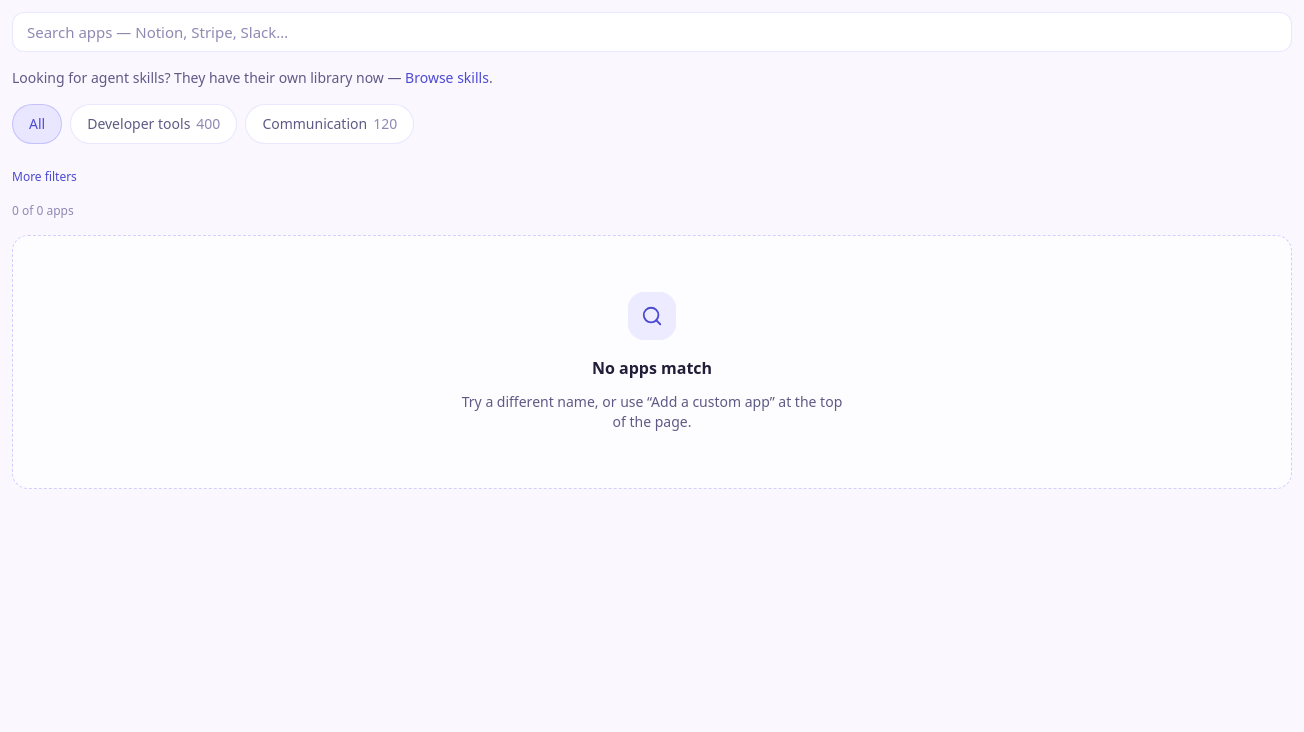
Test: AppLibrary in catalog mode › spells the advanced chips like a person would, and drops Unknown
Click the button "More filters": (44, 177) [12,169,77,185]
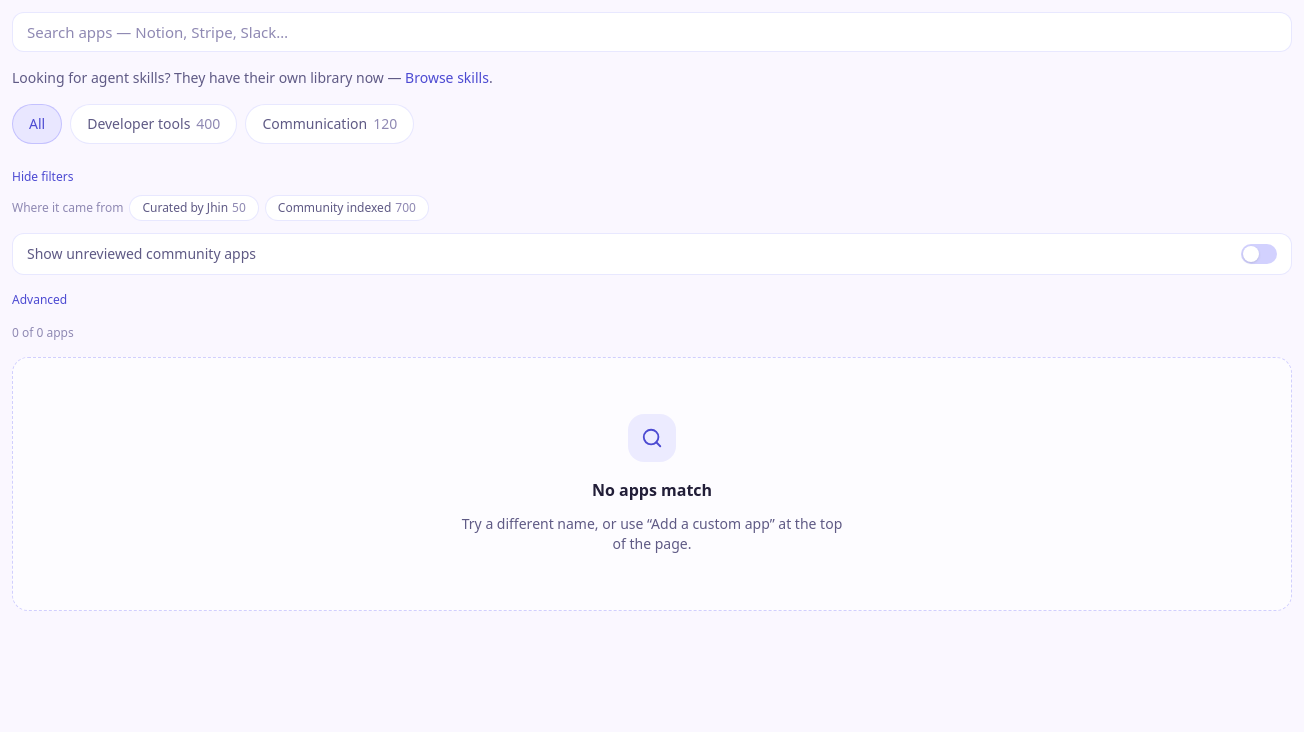
Click the button "Advanced": (40, 300) [12,292,67,308]
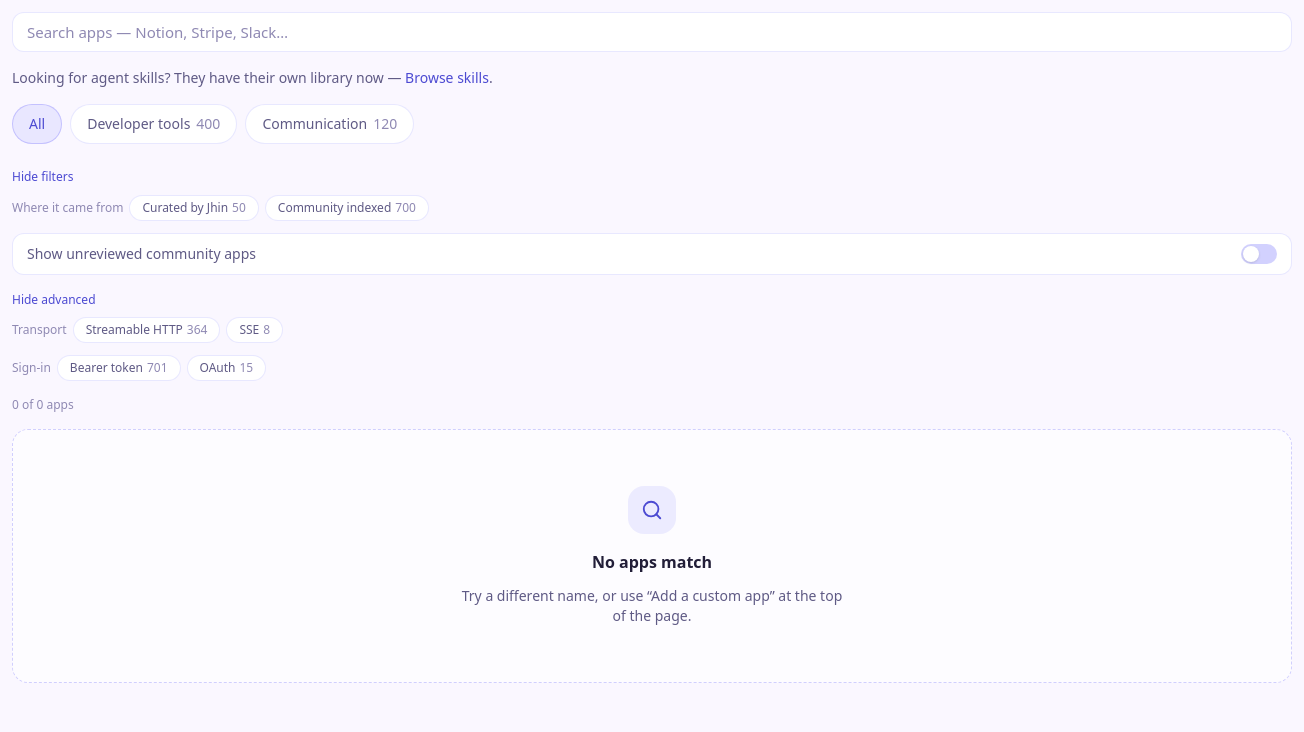
expect the button "SSE8" is shown: met, box [226,317,283,343]
expect the button "Streamable HTTP364" is shown: met, box [73,317,220,343]
expect the button "OAuth15" is shown: met, box [186,355,266,381]
